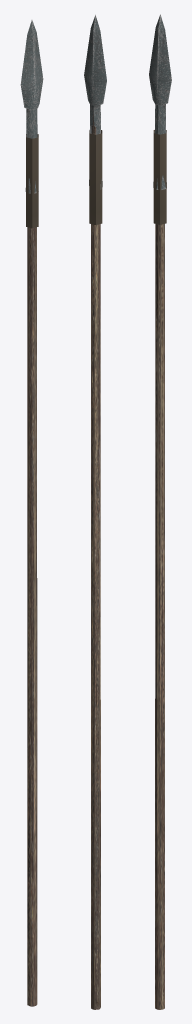
The model's file is Speer_LOD1.dae.
3 views of the same model, side by side, from view 1: azimuth 30°, elevation 25°; view 2: azimuth 150°, elevation 25°; view 3: azimuth 330°, elevation 25° (orthographic).
Visible parts, largest first — view 1: Speer_LOD1; view 2: Speer_LOD1; view 3: Speer_LOD1.
Boxes of the visible parts, left/top/right/bottom form: Speer_LOD1: left=20, top=20, right=43, bottom=1006; Speer_LOD1: left=84, top=15, right=106, bottom=1009; Speer_LOD1: left=149, top=14, right=171, bottom=1009.
Size of the model in its own units: 0.0348 by 0.0194 by 1.44.
Materials: 1 (1 with a texture image).
